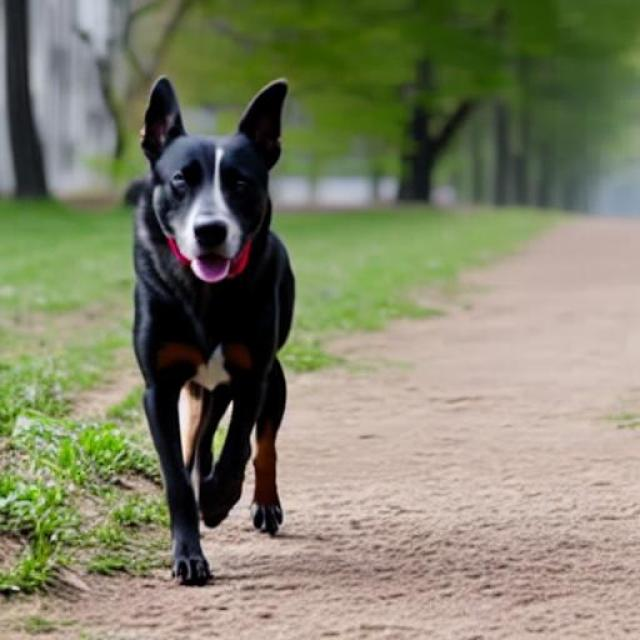Dog: (122, 76, 298, 585)
